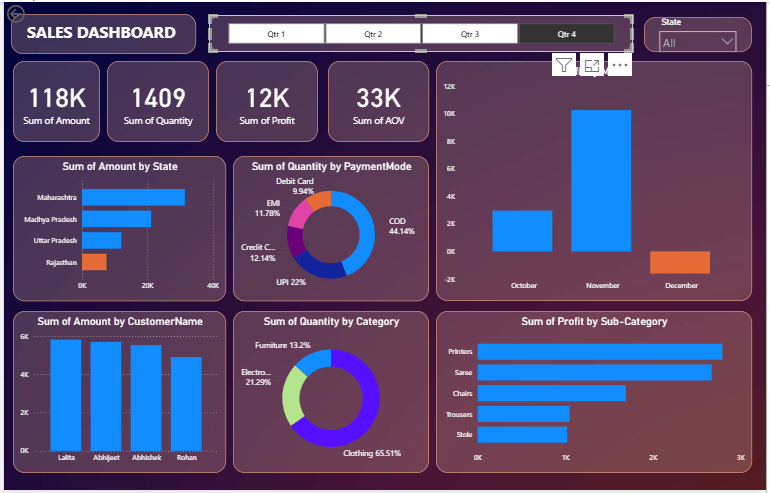

The dashboard page shown, as its layout file describes it:
{"tool":"powerbi","page":{"name":"Page 1","canvas":[1280,820],"ordinal":0},"visuals":[{"type":"textbox","box":[11.8,20.2,310.8,67.2],"z":0},{"type":"columnChart","title":"Profit by Month","fields":{"Category":["Orders.Order Date.Variation.Date Hierarchy.Month"],"Y":["Sum(Details.Profit)"]},"box":[725.7,99.1,530.8,403.1],"z":1000},{"type":"barChart","fields":{"Category":["Details.Sub-Category"],"Y":["Sum(Details.Profit)"]},"box":[725.7,519.1,530.8,272.1],"z":2000},{"type":"donutChart","fields":{"Category":["Details.Category"],"Y":["Sum(Details.Quantity)"]},"box":[384.7,519.1,329.2,272.1],"z":3000},{"type":"donutChart","fields":{"Category":["Details.PaymentMode"],"Y":["Sum(Details.Quantity)"]},"box":[384.7,258.7,329.2,243.6],"z":4000},{"type":"card","fields":{"Values":["Sum(Details.Amount)"]},"box":[15.1,99.1,146.1,136.1],"z":5000},{"type":"actionButton","box":[0,0,100,40],"z":6000},{"type":"card","fields":{"Values":["Sum(Details.Quantity)"]},"box":[173,99.1,171.3,136.1],"z":7000},{"type":"card","fields":{"Values":["Sum(Details.Profit)"]},"box":[356.1,99.1,171.3,136.1],"z":8000},{"type":"card","fields":{"Values":["Sum(Details.AOV)"]},"box":[544.3,99.1,169.7,136.1],"z":9000},{"type":"barChart","fields":{"Category":["Orders.State"],"Y":["Sum(Details.Amount)"]},"box":[15.1,258.7,357.8,243.6],"z":10000},{"type":"slicer","fields":{"Values":["Orders.Order Date.Variation.Date Hierarchy.Quarter"]},"box":[344.4,21.8,712.2,62.2],"z":10001},{"type":"slicer","fields":{"Values":["Orders.State"]},"box":[1075.1,25.2,181.4,58.8],"z":10002},{"type":"columnChart","fields":{"Category":["Orders.CustomerName"],"Y":["Sum(Details.Amount)"]},"box":[15,519,358,272],"z":10003}]}

Visuals, with their boxes in screenshot pixels (x1, y1, x2, y2), scaled from the page's 1280x820 canvas onto the 770x493 screenshot:
textbox: bbox=(7, 12, 194, 53)
"Profit by Month" columnChart: bbox=(437, 60, 756, 302)
barChart - Details.Sub-Category x Sum(Details.Profit): bbox=(437, 312, 756, 476)
donutChart - Details.Category x Sum(Details.Quantity): bbox=(231, 312, 429, 476)
donutChart - Details.PaymentMode x Sum(Details.Quantity): bbox=(231, 156, 429, 302)
card - Sum(Details.Amount): bbox=(9, 60, 97, 141)
actionButton: bbox=(0, 0, 60, 24)
card - Sum(Details.Quantity): bbox=(104, 60, 207, 141)
card - Sum(Details.Profit): bbox=(214, 60, 317, 141)
card - Sum(Details.AOV): bbox=(327, 60, 430, 141)
barChart - Orders.State x Sum(Details.Amount): bbox=(9, 156, 224, 302)
slicer - Orders.Order Date.Variation.Date Hierarchy.Quarter: bbox=(207, 13, 636, 51)
slicer - Orders.State: bbox=(647, 15, 756, 51)
columnChart - Orders.CustomerName x Sum(Details.Amount): bbox=(9, 312, 224, 476)
